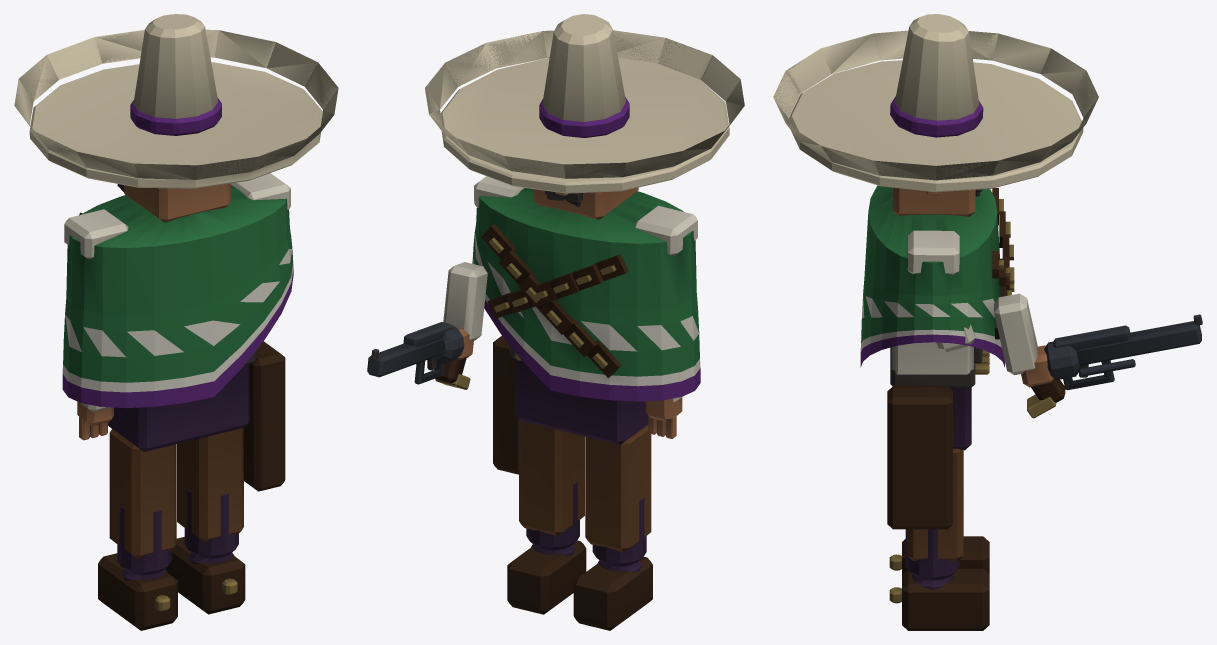
The model's file is cowboy_bandido.glb.
The picture shows the model from 3 angles, left to right: view 1: azimuth 30°, elevation 25°; view 2: azimuth 150°, elevation 25°; view 3: azimuth 270°, elevation 25°; orthographic projection.
Visible parts, largest first — view 1: O_Torso, O_Hat, O_Pelvis, O_Leg_L, O_Leg_R, O_Shin_L, O_Shin_R, O_Head, O_Sleeve_L; view 2: O_Hat, O_Torso, O_Pelvis, O_Leg_L, O_Leg_R, O_Shin_L, O_Shin_R, O_Frame, O_Fore_R, O_Head, O_Sleeve_L; view 3: O_Hat, O_Torso, O_Pelvis, O_Frame, O_Shin_R, O_Leg_R, O_Fore_R, O_Head, O_Shin_L.
Part boxes in pixels (x1,y1,x2,y2): O_Torso: [62, 173, 293, 408]; O_Hat: [14, 14, 338, 188]; O_Pelvis: [108, 341, 285, 491]; O_Leg_L: [109, 429, 176, 574]; O_Leg_R: [177, 428, 243, 558]; O_Shin_L: [98, 553, 177, 630]; O_Shin_R: [165, 537, 245, 614]; O_Head: [124, 183, 230, 222]; O_Sleeve_L: [77, 401, 113, 440]; O_Hat: [425, 14, 744, 193]; O_Torso: [472, 176, 700, 401]; O_Pelvis: [493, 336, 648, 474]; O_Leg_L: [585, 425, 651, 566]; O_Leg_R: [519, 419, 584, 550]; O_Shin_L: [573, 556, 652, 630]; O_Shin_R: [507, 540, 586, 614]; O_Frame: [367, 322, 470, 389]; O_Fore_R: [443, 262, 487, 360]; O_Head: [533, 187, 638, 219]; O_Sleeve_L: [646, 396, 683, 438]; O_Hat: [773, 14, 1098, 192]; O_Torso: [860, 185, 1014, 374]; O_Pelvis: [887, 347, 989, 529]; O_Frame: [1027, 314, 1202, 418]; O_Shin_R: [889, 569, 989, 630]; O_Leg_R: [905, 448, 963, 580]; O_Fore_R: [994, 293, 1054, 387]; O_Head: [892, 187, 982, 216]; O_Shin_L: [889, 536, 989, 574].
Size of the model in its own units: 1.26 by 2.5 by 1.66.
